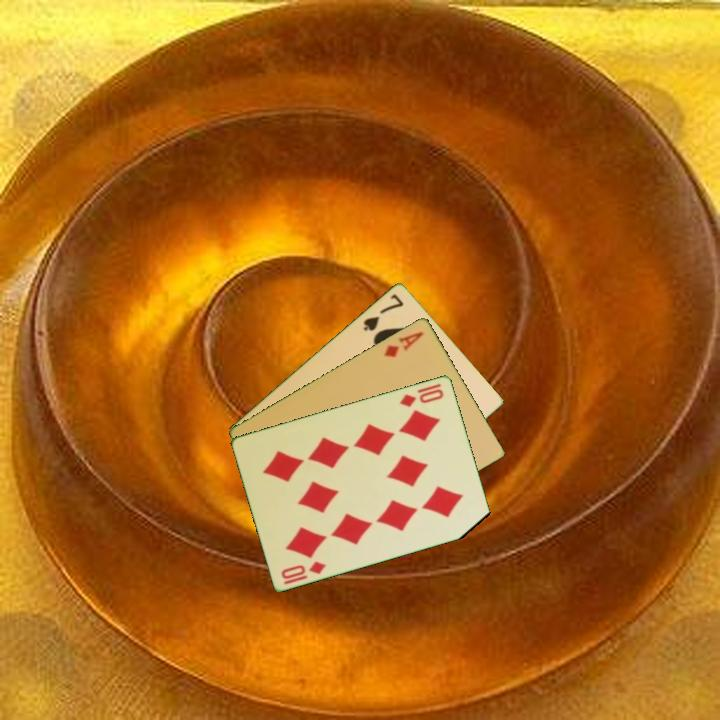10d: (278, 557, 329, 587), (396, 385, 447, 410)
7s: (359, 290, 406, 334)
Ad: (380, 328, 426, 360)
